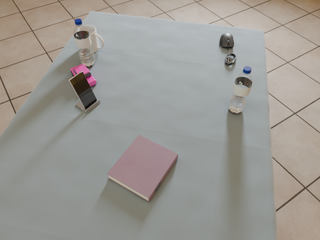book: (107, 135, 178, 202)
bottle: (228, 66, 253, 114), (73, 19, 95, 67)
cup: (84, 25, 104, 52)
mouse: (220, 33, 234, 49)
phone: (69, 71, 97, 109)
toy_car: (71, 64, 97, 87)
